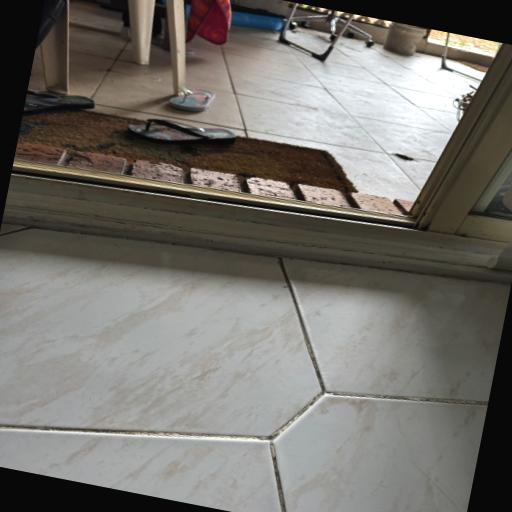step: (2, 160, 413, 269)
